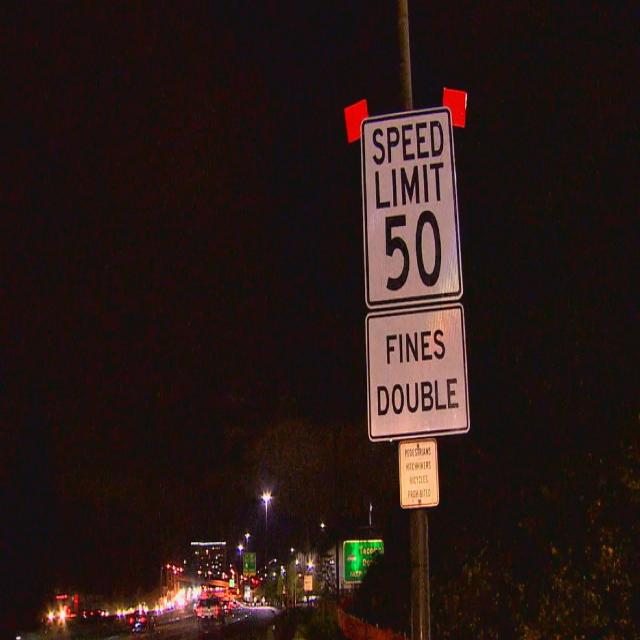speedLimit50: (366, 129, 451, 294)
